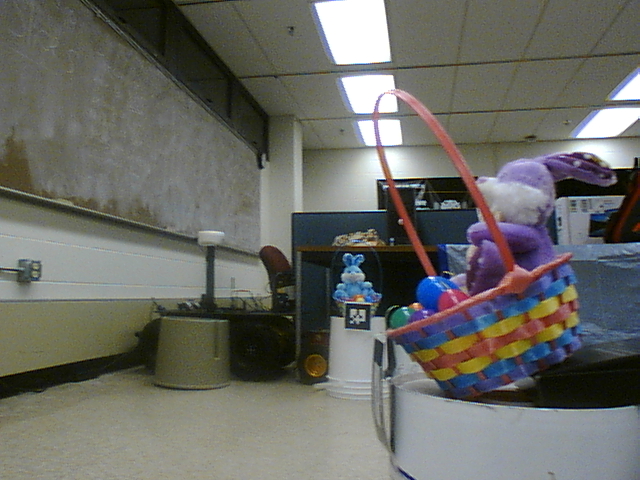bunny: (365, 87, 606, 390), (327, 238, 383, 325)
